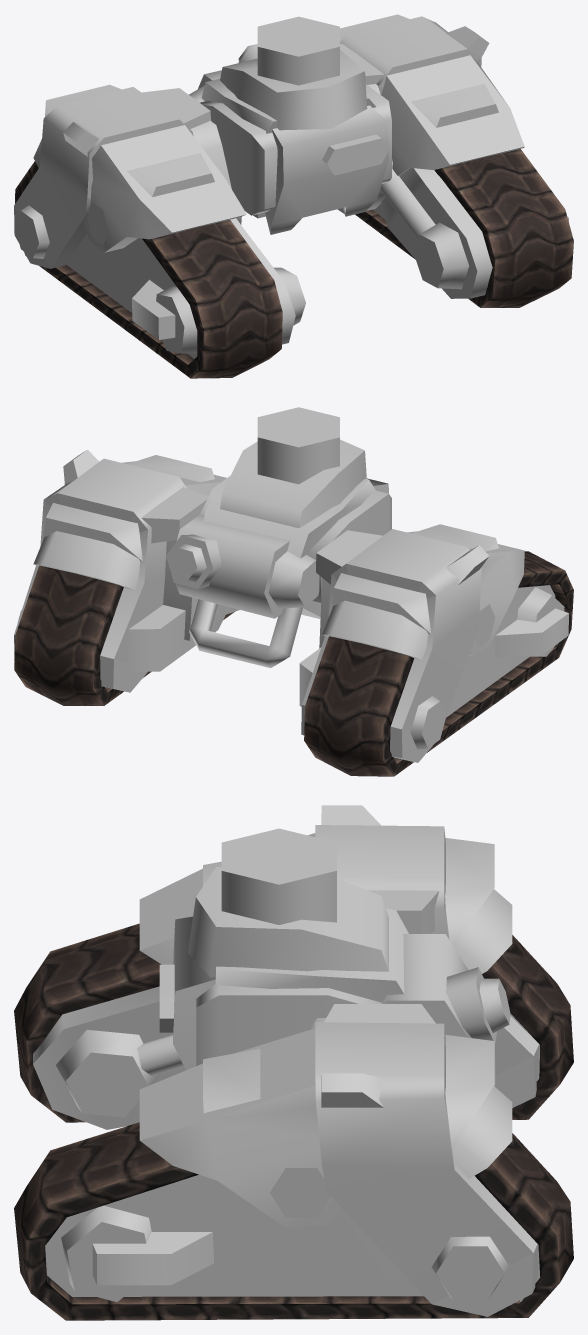
The model's file is Legs_Tracks_Lvl2.fbx.
3 renders of one model, top to bottom at view 1: azimuth 30°, elevation 25°; view 2: azimuth 150°, elevation 25°; view 3: azimuth 270°, elevation 25°, orthographic. The views are drawn at different scales.
Visible parts, largest first — view 1: Side_R_Geom, Pelvis_Geom, Side_L_Geom, Tracks_R_Geom, Tracks_L_Geom; view 2: Side_R_Geom, Pelvis_Geom, Side_L_Geom, Tracks_R_Geom, Tracks_L_Geom; view 3: Side_L_Geom, Pelvis_Geom, Side_R_Geom, Tracks_L_Geom, Tracks_R_Geom.
Boxes of the visible parts, <box> form: Side_R_Geom: <box>14,84,305,358</box>; Pelvis_Geom: <box>189,16,391,234</box>; Side_L_Geom: <box>338,14,568,298</box>; Tracks_R_Geom: <box>15,161,282,378</box>; Tracks_L_Geom: <box>355,149,573,307</box>; Side_R_Geom: <box>299,524,568,762</box>; Pelvis_Geom: <box>166,407,391,667</box>; Side_L_Geom: <box>14,449,239,692</box>; Tracks_R_Geom: <box>304,551,573,776</box>; Tracks_L_Geom: <box>14,565,234,705</box>; Side_L_Geom: <box>45,1004,540,1316</box>; Pelvis_Geom: <box>159,828,510,1070</box>; Side_R_Geom: <box>33,805,539,1129</box>; Tracks_L_Geom: <box>14,1122,573,1320</box>; Tracks_R_Geom: <box>14,923,573,1122</box>.
Bounding box in the file's own units: 364 × 211 × 306.
